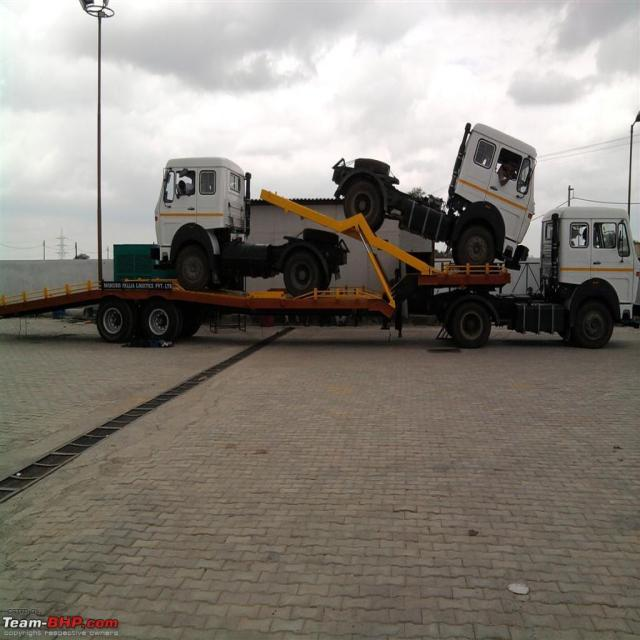truck: (431, 207, 640, 348), (332, 123, 536, 267), (155, 157, 348, 294)
